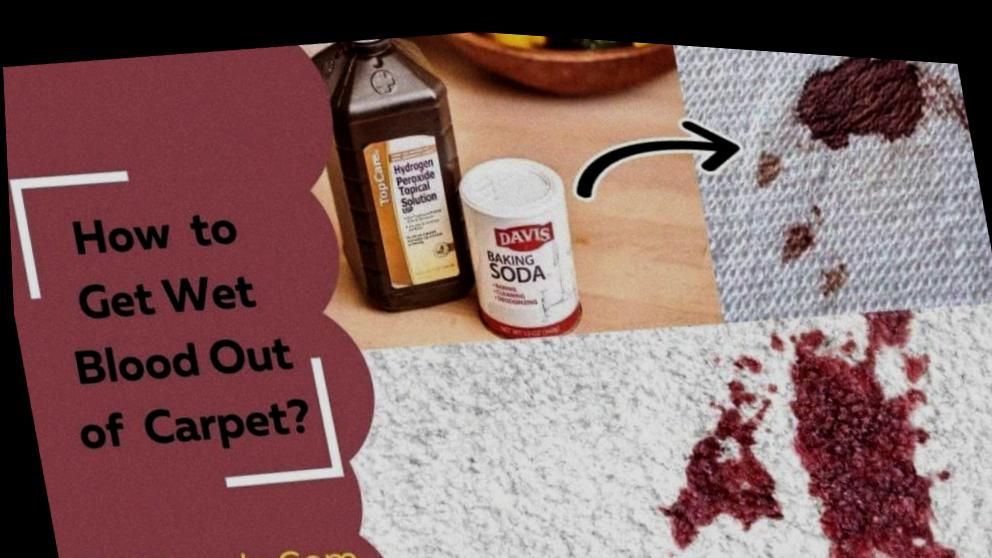Fire: (784, 295, 957, 558), (653, 394, 780, 539), (794, 44, 929, 138), (776, 215, 814, 256), (755, 137, 781, 176)
